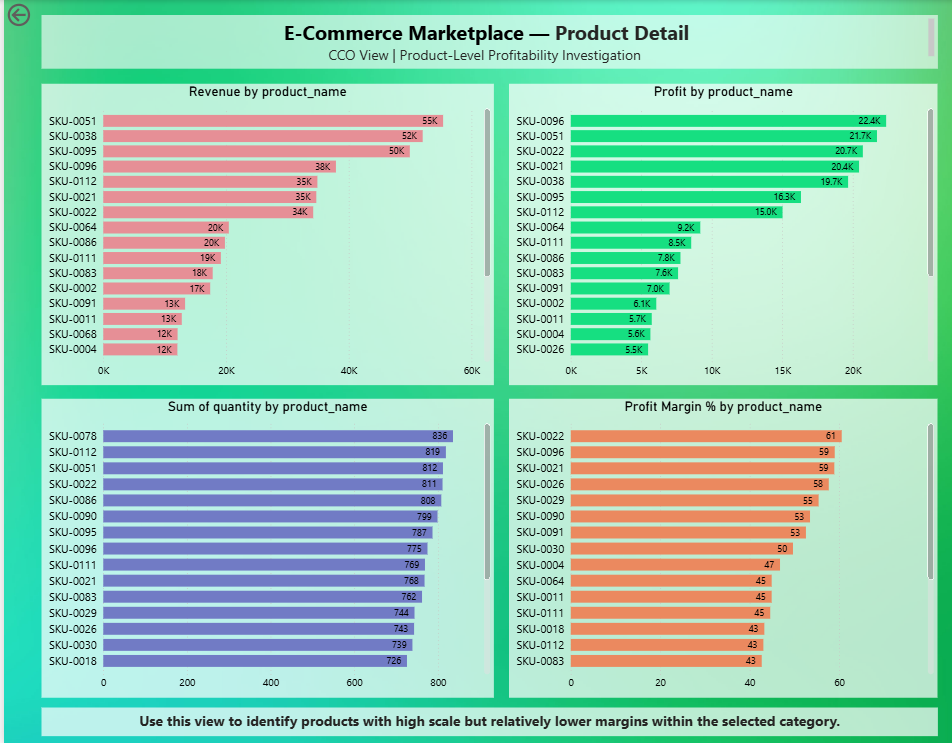

Layout of this report page (visuals, bound fields, positions):
{"tool":"powerbi","page":{"name":"Product Detail ","canvas":[1280,1000],"ordinal":2},"visuals":[{"type":"actionButton","box":[0,0,100,40],"z":0},{"type":"clusteredBarChart","fields":{"Category":["Product.product_name"],"Y":["Order Items.Revenue"]},"box":[50.3,112.3,606.6,403.8],"z":1000},{"type":"clusteredBarChart","fields":{"Category":["Product.product_name"],"Y":["Order Items.Profit"]},"box":[676.9,112.3,574.7,403.8],"z":2000},{"type":"clusteredBarChart","fields":{"Category":["Product.product_name"],"Y":["Order Items.Profit Margin %"]},"box":[676.9,534.5,574.7,400.5],"z":3000},{"type":"clusteredBarChart","fields":{"Category":["Product.product_name"],"Y":["Sum(Order Items.quantity)"]},"box":[50.3,534.5,606.6,400.5],"z":4000},{"type":"textbox","box":[50.3,20.1,1201.4,72.1],"z":5000},{"type":"textbox","box":[50.3,948.4,1201.4,38.5],"z":6000}]}

Visuals, with their boxes in screenshot pixels (x1, y1, x2, y2), scaled from the page's 1280x1000 canvas onto the 952x743 screenshot:
actionButton: <bbox>0, 0, 74, 30</bbox>
clusteredBarChart - Product.product_name x Order Items.Revenue: <bbox>37, 83, 489, 383</bbox>
clusteredBarChart - Product.product_name x Order Items.Profit: <bbox>503, 83, 931, 383</bbox>
clusteredBarChart - Product.product_name x Order Items.Profit Margin %: <bbox>503, 397, 931, 695</bbox>
clusteredBarChart - Product.product_name x Sum(Order Items.quantity): <bbox>37, 397, 489, 695</bbox>
textbox: <bbox>37, 15, 931, 69</bbox>
textbox: <bbox>37, 705, 931, 733</bbox>
